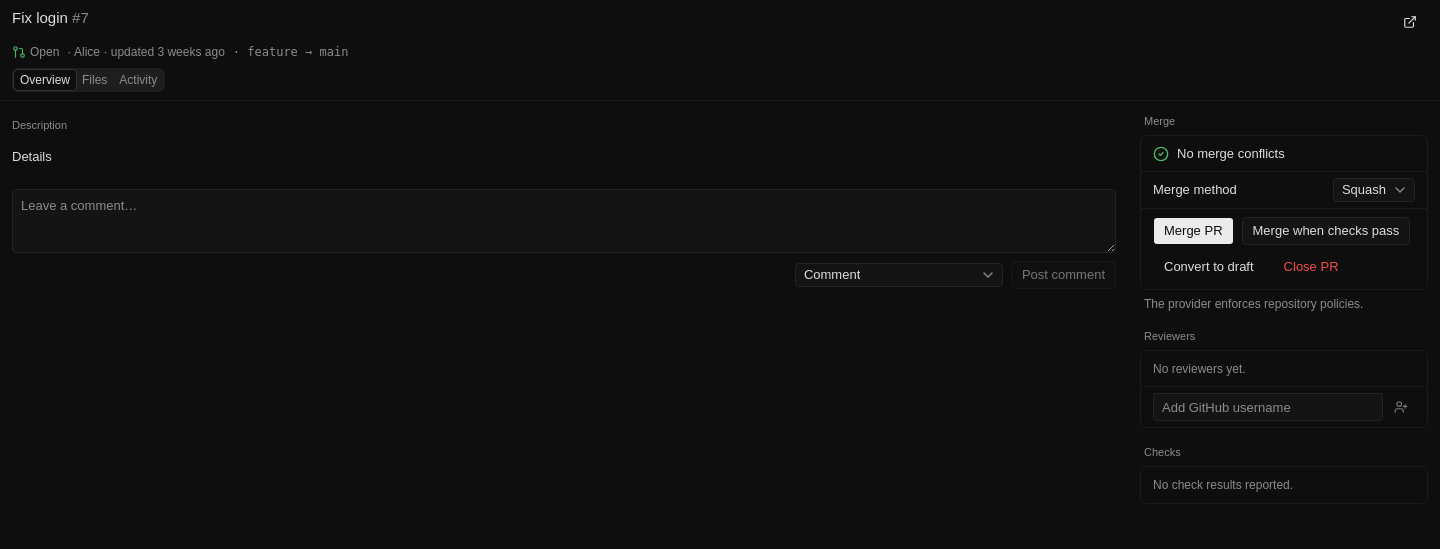
Test: successful submission preserves a newer draft written while the request was pending
This screenshot has width=1440, height=549.
In the text box named "Review feedback": (564, 221) [12, 189, 1116, 253], type "First comment"
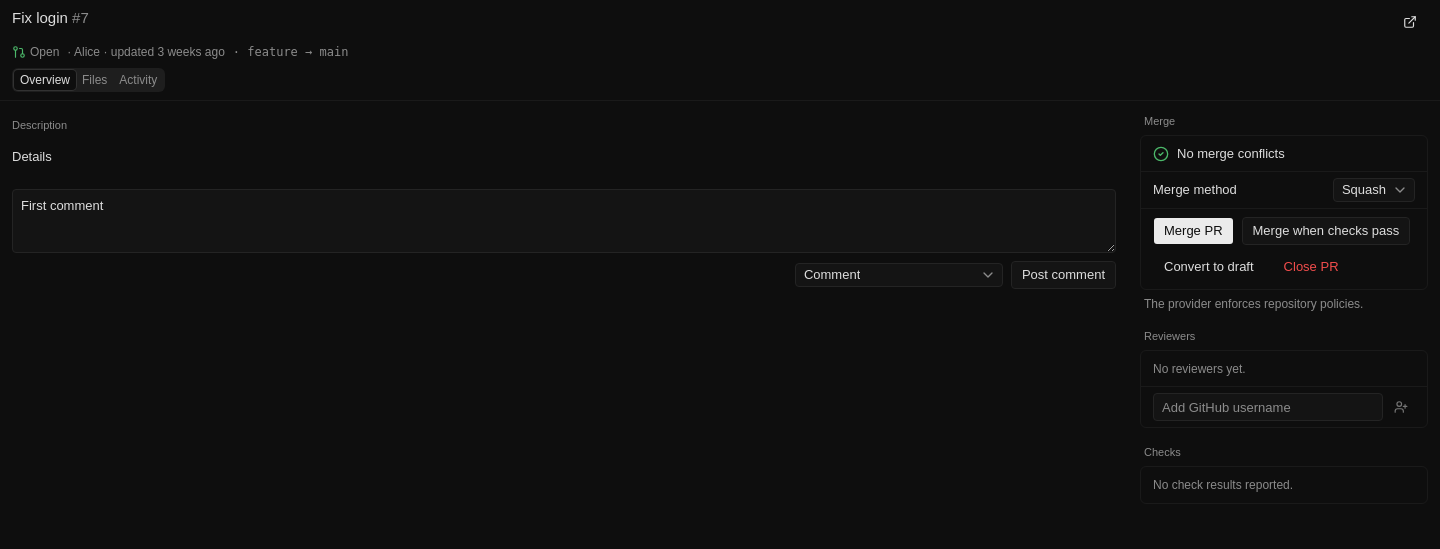
Click the button "Post comment": click(1063, 275) [1011, 261, 1116, 289]
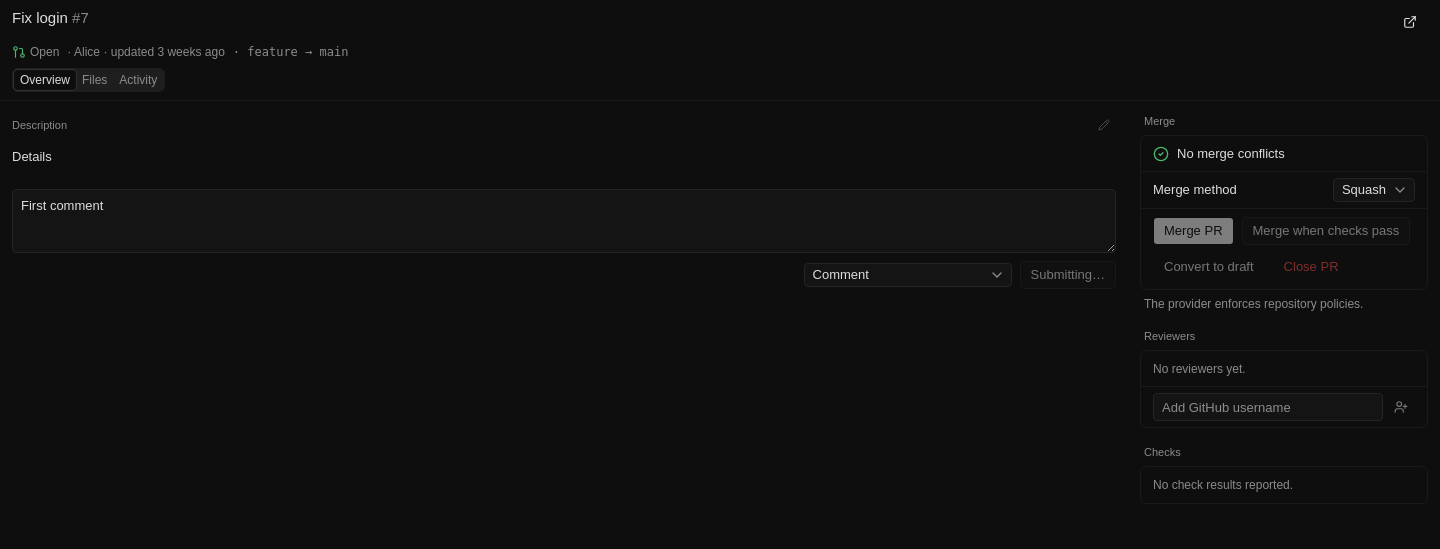
Replace the text in the text box named "Review feedback" with "My next comment": (564, 221) [12, 189, 1116, 253]
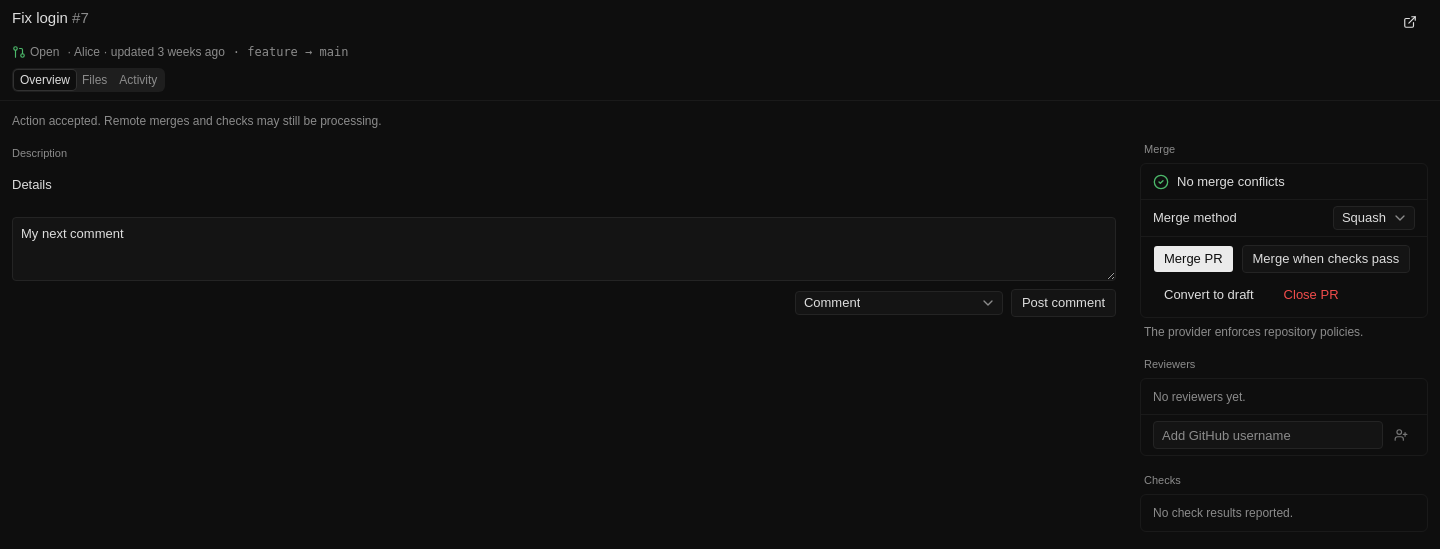
Expected: the button "Post comment" is shown, [1011, 289, 1116, 317]
